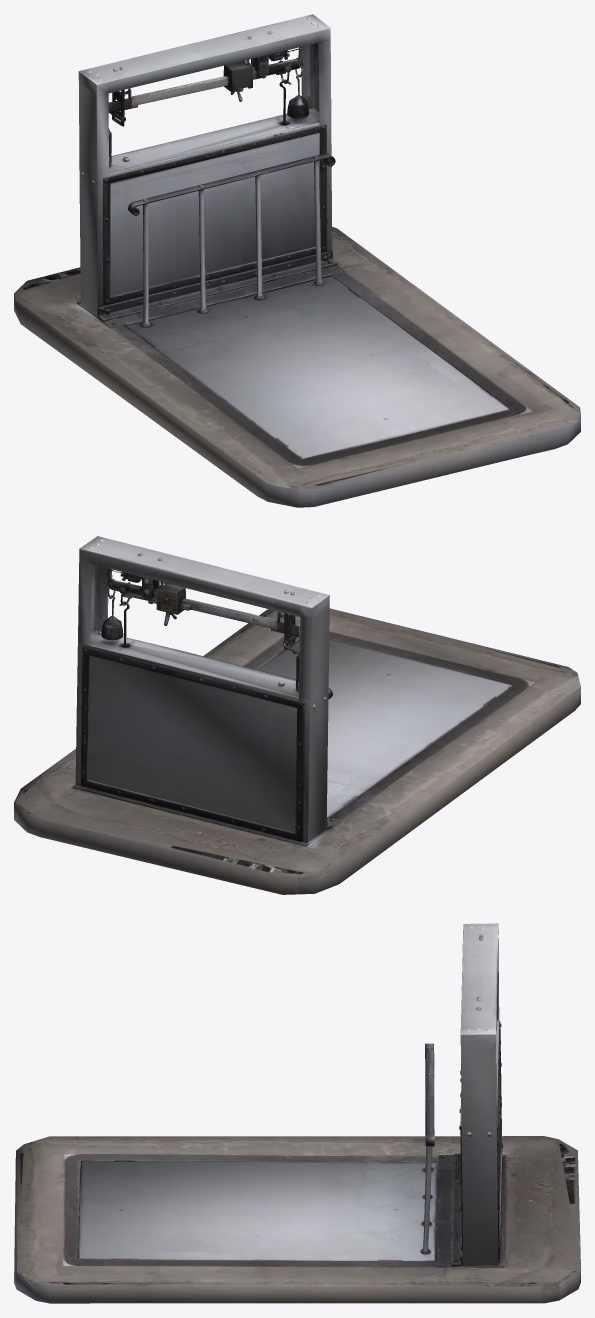
Rendered from scale.glb.
The picture shows the model from 3 angles, top to bottom: view 1: azimuth 30°, elevation 25°; view 2: azimuth 150°, elevation 25°; view 3: azimuth 270°, elevation 25°; orthographic projection. The views are drawn at different scales.
Parts seen in each view (by area): view 1: Object_12, Object_6, Object_5, Object_3, Object_7, Object_10, Object_2, Object_8; view 2: Object_12, Object_6, Object_5, Object_3, Object_2, Object_10; view 3: Object_12, Object_6, Object_3, Object_5, Object_7, Object_8.
Boxes of the visible parts, x1,y1,x2,y2 form: Object_12: [14, 55, 580, 507]; Object_6: [78, 14, 332, 316]; Object_5: [98, 31, 337, 324]; Object_3: [77, 60, 344, 328]; Object_7: [88, 17, 335, 313]; Object_10: [81, 63, 308, 326]; Object_2: [108, 47, 303, 113]; Object_8: [313, 155, 323, 285]; Object_12: [14, 577, 580, 894]; Object_6: [75, 536, 329, 842]; Object_5: [81, 553, 334, 841]; Object_3: [72, 583, 340, 846]; Object_2: [106, 568, 299, 636]; Object_10: [101, 585, 315, 708]; Object_12: [14, 1132, 580, 1303]; Object_6: [460, 923, 500, 1265]; Object_3: [436, 1154, 505, 1267]; Object_5: [441, 934, 502, 1265]; Object_7: [423, 926, 492, 1198]; Object_8: [420, 1128, 433, 1254].
Size of the model in its own units: 18.68 by 14.48 by 29.43.
1 material, 1 textured.
